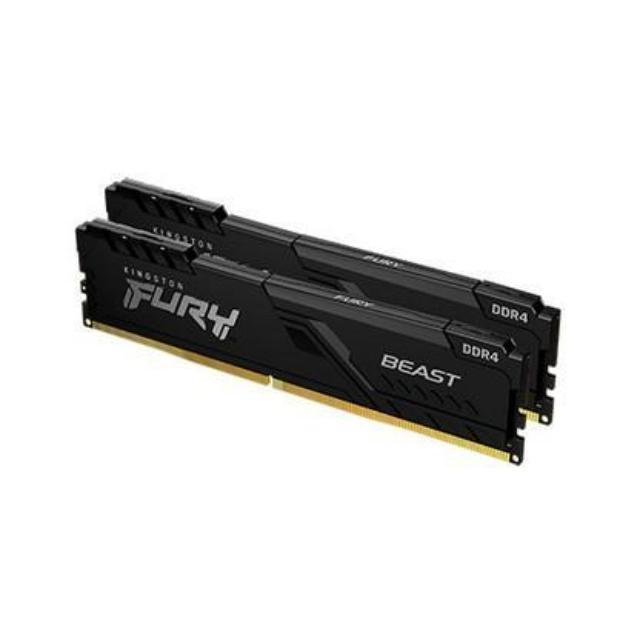RAM: (73, 171, 559, 469)
